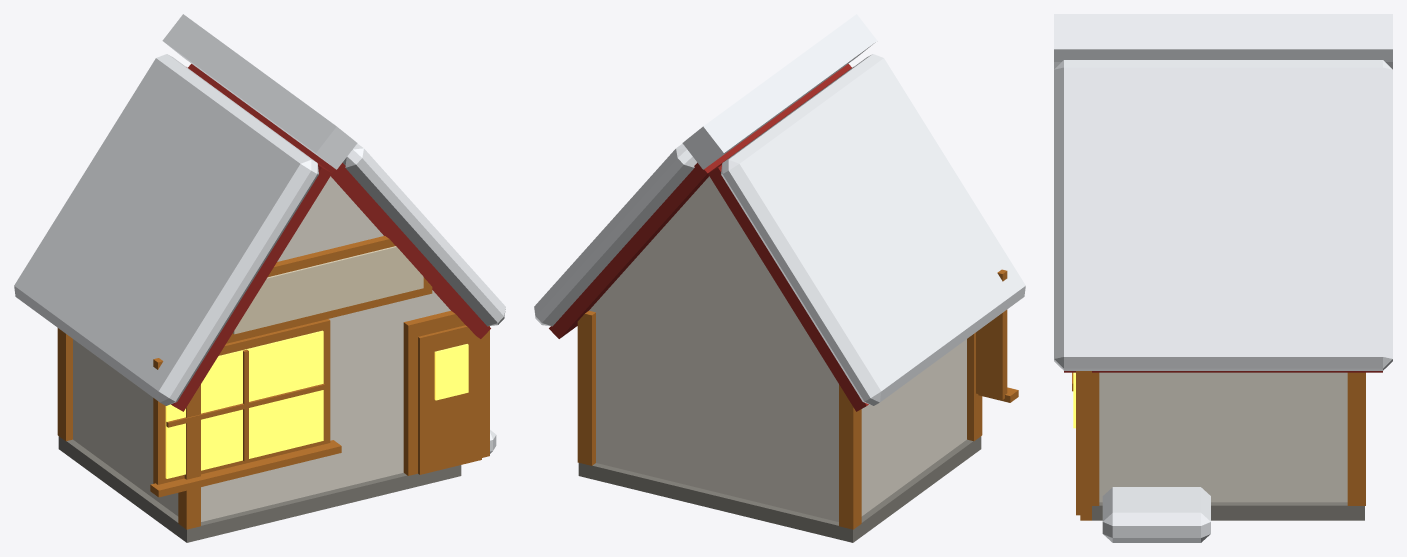
The model's file is warming-hut-sugarhouse.glb.
3 renders of one model, left to right at view 1: azimuth 30°, elevation 25°; view 2: azimuth 150°, elevation 25°; view 3: azimuth 270°, elevation 25°, orthographic. The views are drawn at different scales.
Visible parts, largest first — view 1: warming-hut-sugarhouse; view 2: warming-hut-sugarhouse; view 3: warming-hut-sugarhouse.
Boxes of the visible parts, <box> form: warming-hut-sugarhouse: <box>14,14,505,542</box>; warming-hut-sugarhouse: <box>534,14,1025,542</box>; warming-hut-sugarhouse: <box>1054,14,1392,542</box>.
Bounding box in the file's own units: 5.51 × 5.74 × 4.07.
